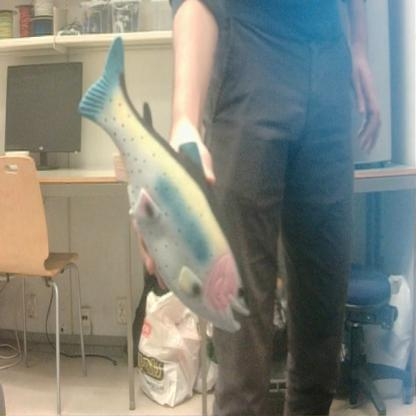rubberfish: (76, 30, 254, 339)
